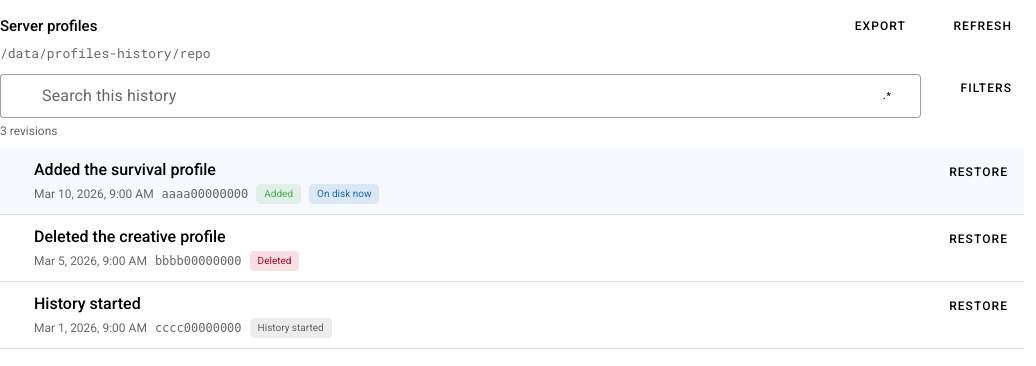
Scenario: filters start collapsed and compose › narrows by action, composed with the search rather than overriding it
This screenshot has width=1036, height=366.
Type "profile" into the search field labelled "Search this history". click: coordinates (428, 94)
box: [36, 74, 821, 114]
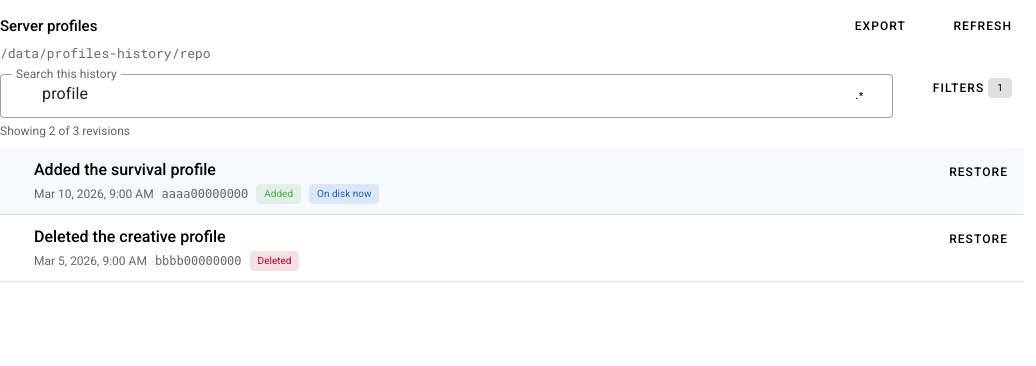
Click the button "Filters 1". click: coordinates (963, 88)
box: [901, 74, 1024, 102]
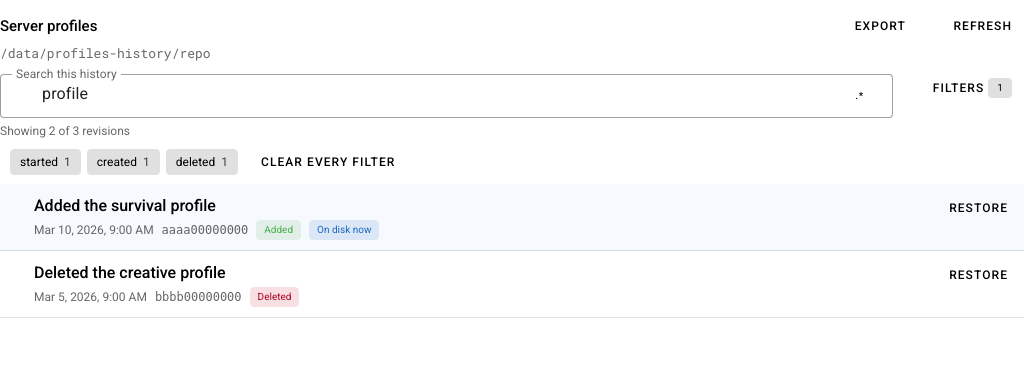
Click the element showing "deleted 1". click: coordinates (202, 162)
box: [166, 148, 238, 174]
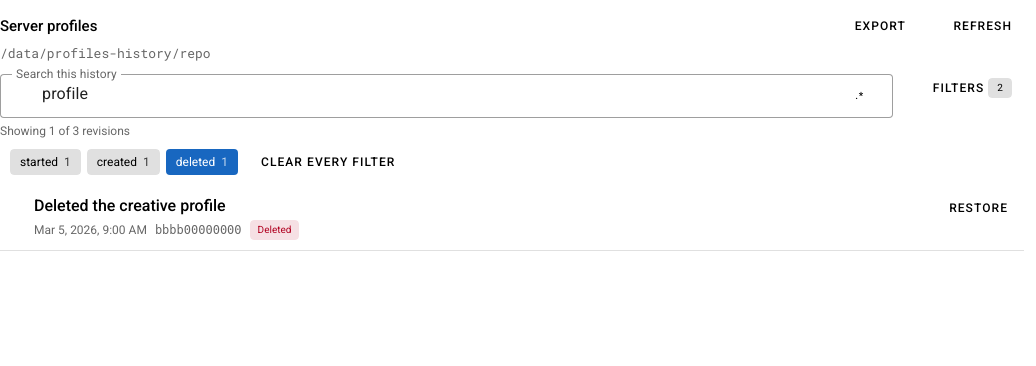
Expected: the text "Deleted the creative profile" is shown, [34, 196, 226, 214]
Expected: the text "Added the survival profile" is gone
